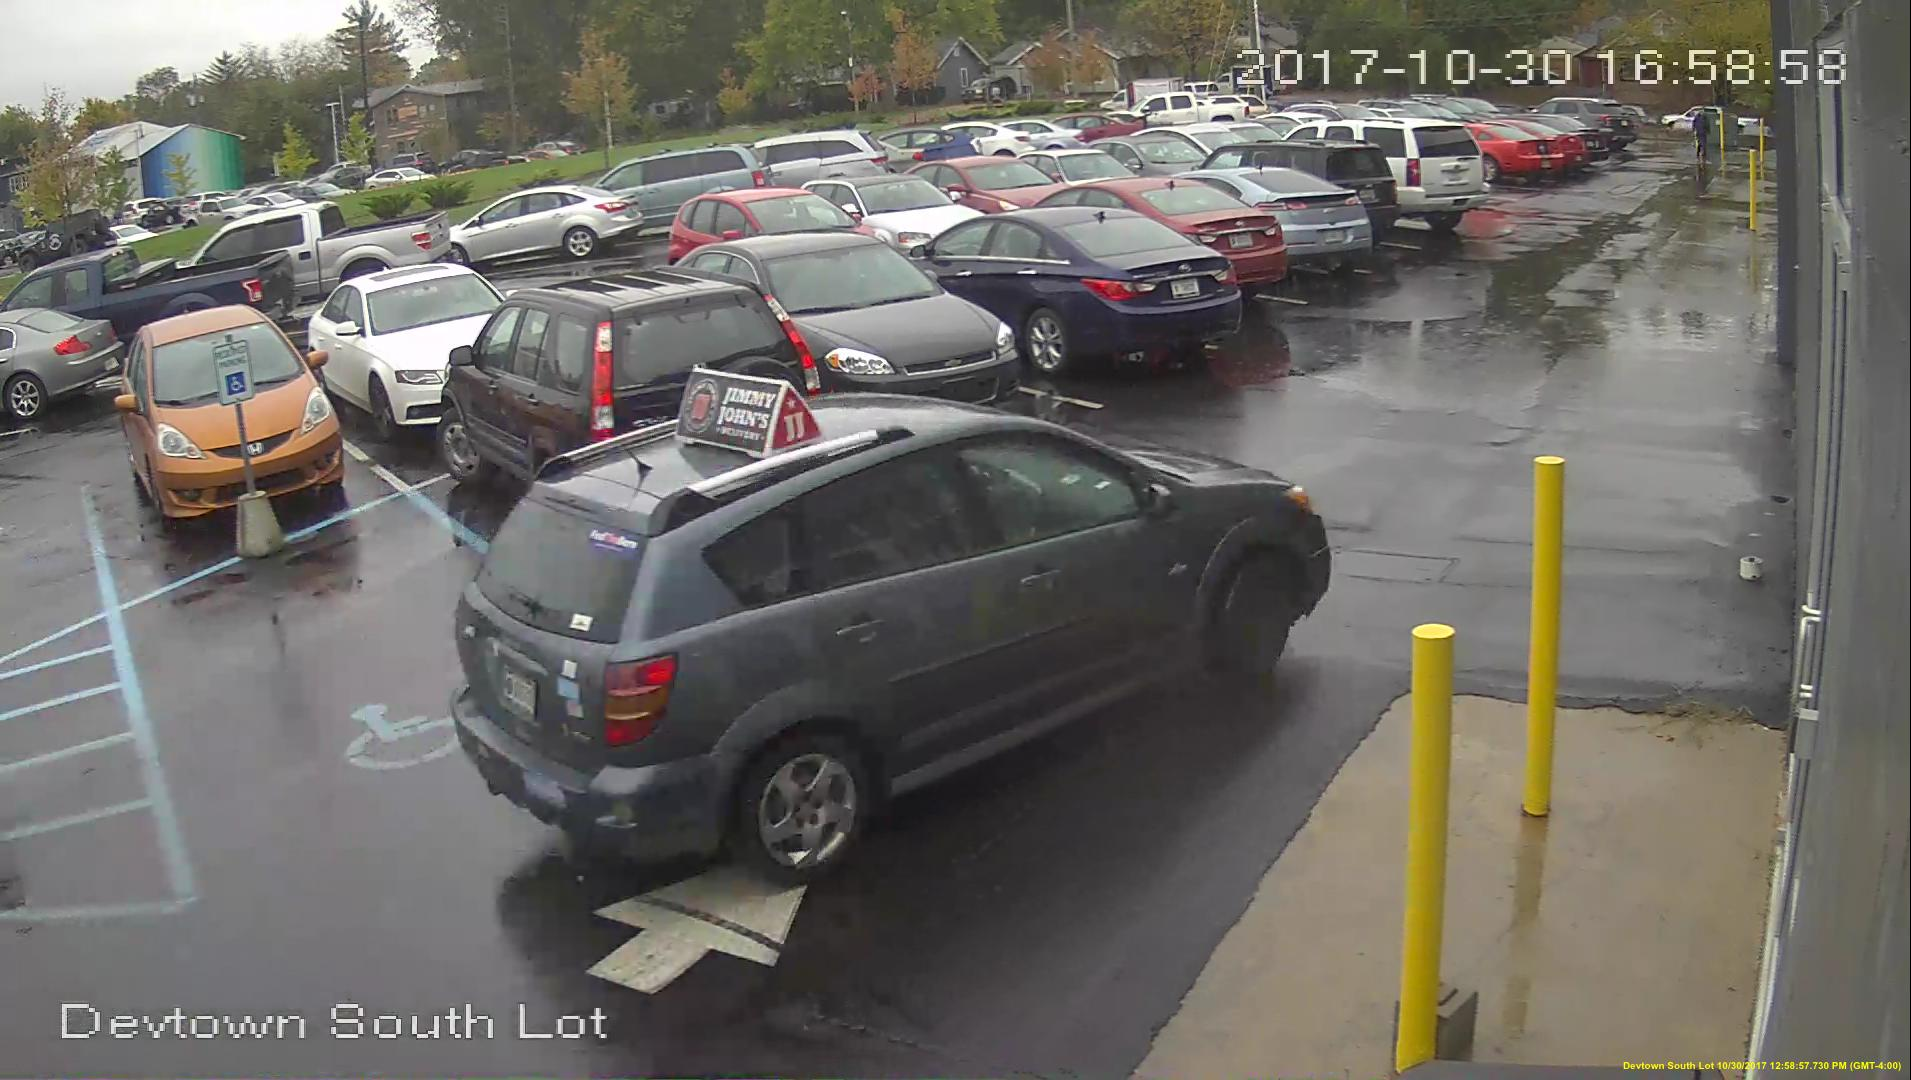jimmy_johns: (676, 363, 822, 461)
